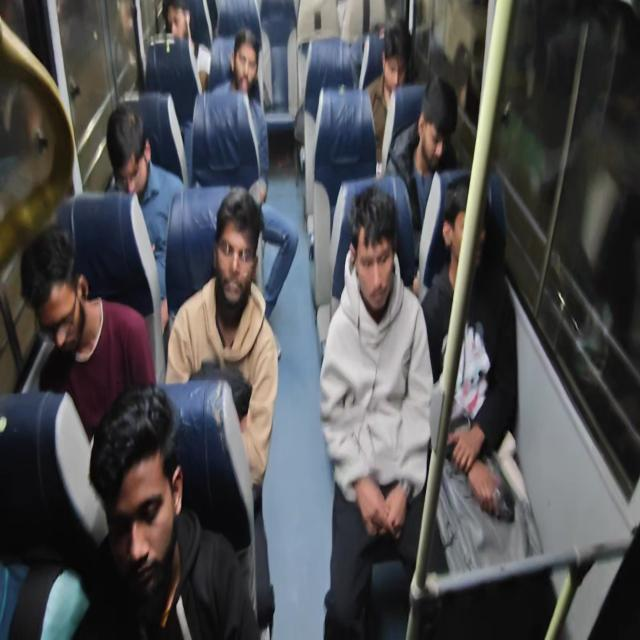person: (87, 388, 182, 610), (16, 227, 98, 372), (104, 91, 167, 212), (345, 188, 397, 325), (216, 190, 266, 307), (441, 176, 490, 272), (416, 74, 460, 177), (375, 20, 416, 110), (232, 27, 264, 97), (159, 0, 191, 55), (371, 20, 404, 44)
